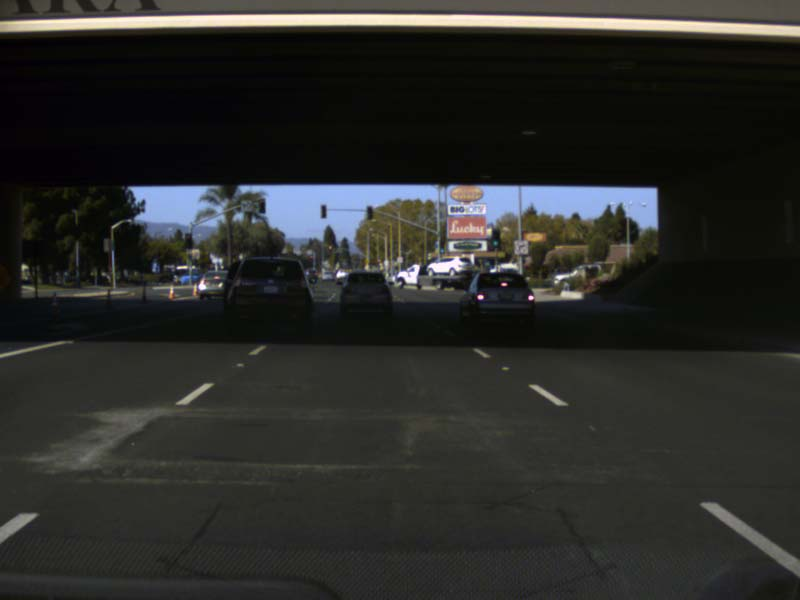Green: (492, 228, 500, 246), (439, 238, 444, 253)
Red: (258, 199, 265, 213), (185, 233, 191, 248), (309, 255, 312, 261)
Yellow: (328, 244, 332, 252)
